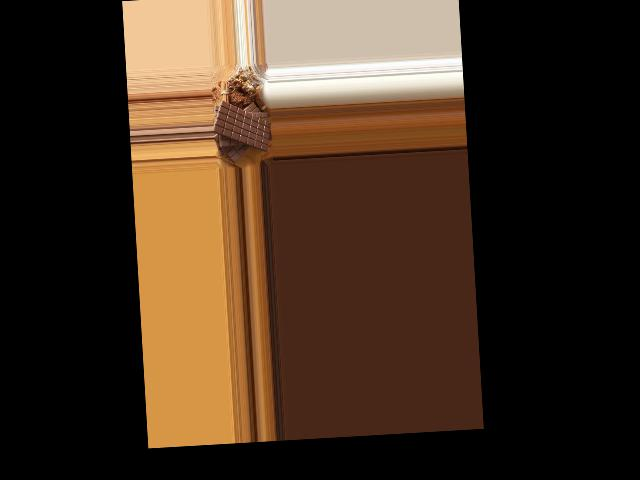chocolate: (211, 94, 270, 155)
